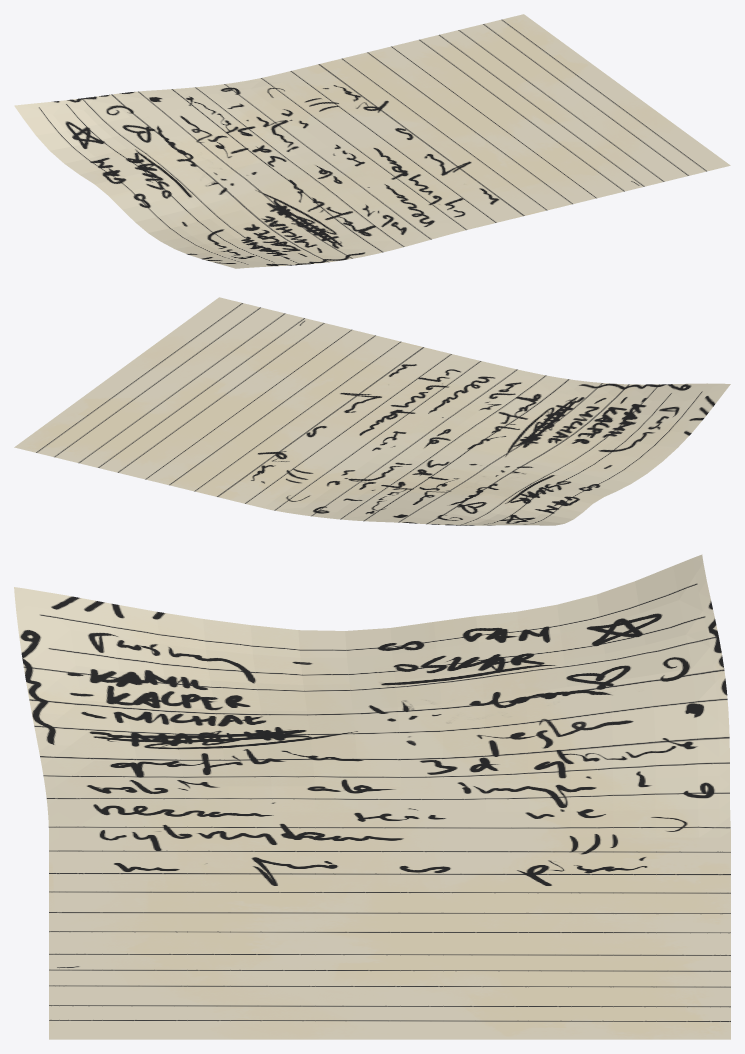
The model's file is note.fbx.
3 views of the same model, one above another, from view 1: azimuth 30°, elevation 25°; view 2: azimuth 150°, elevation 25°; view 3: azimuth 270°, elevation 25° (orthographic). The views are drawn at different scales.
Parts seen in each view (by area): view 1: Plane; view 2: Plane; view 3: Plane.
Part boxes in pixels (<box>): Plane: <box>14,14,730,268</box>; Plane: <box>14,297,730,525</box>; Plane: <box>14,554,730,1039</box>.
Bounding box in the file's own units: 206 × 16.42 × 150.
1 material, 1 textured.
